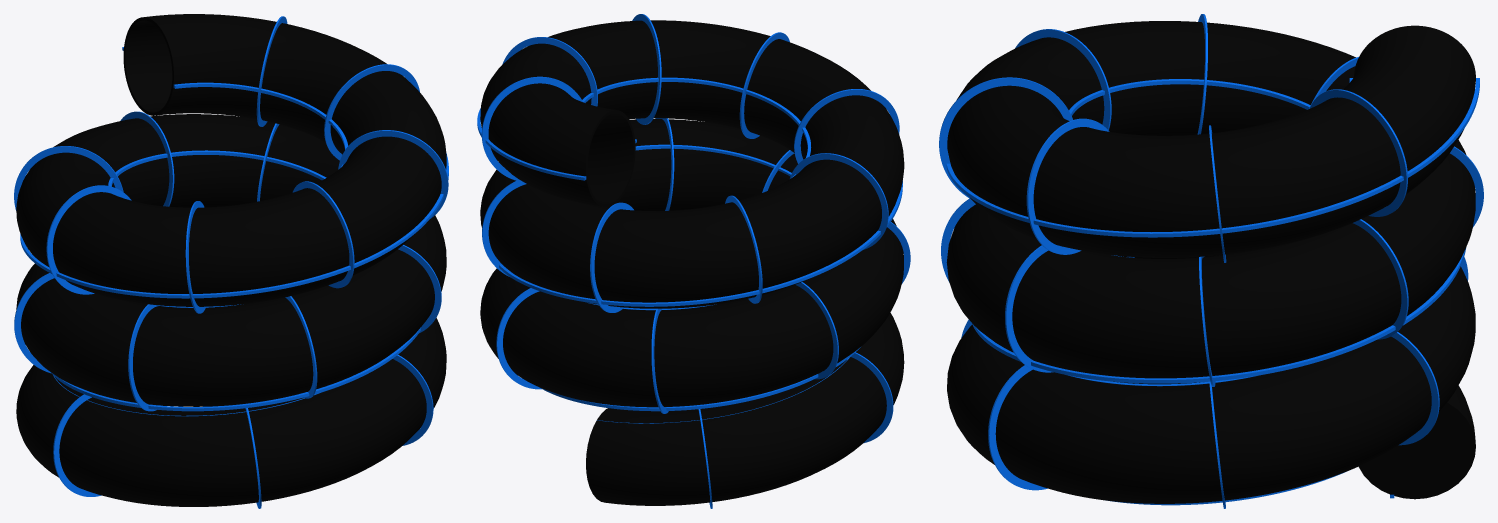
Rendered from slide.glb.
3 views of the same model, side by side, from view 1: azimuth 30°, elevation 25°; view 2: azimuth 150°, elevation 25°; view 3: azimuth 270°, elevation 25° (orthographic). The views are drawn at different scales.
Bounding box in the file's own units: 13.39 × 12.98 × 13.39.
